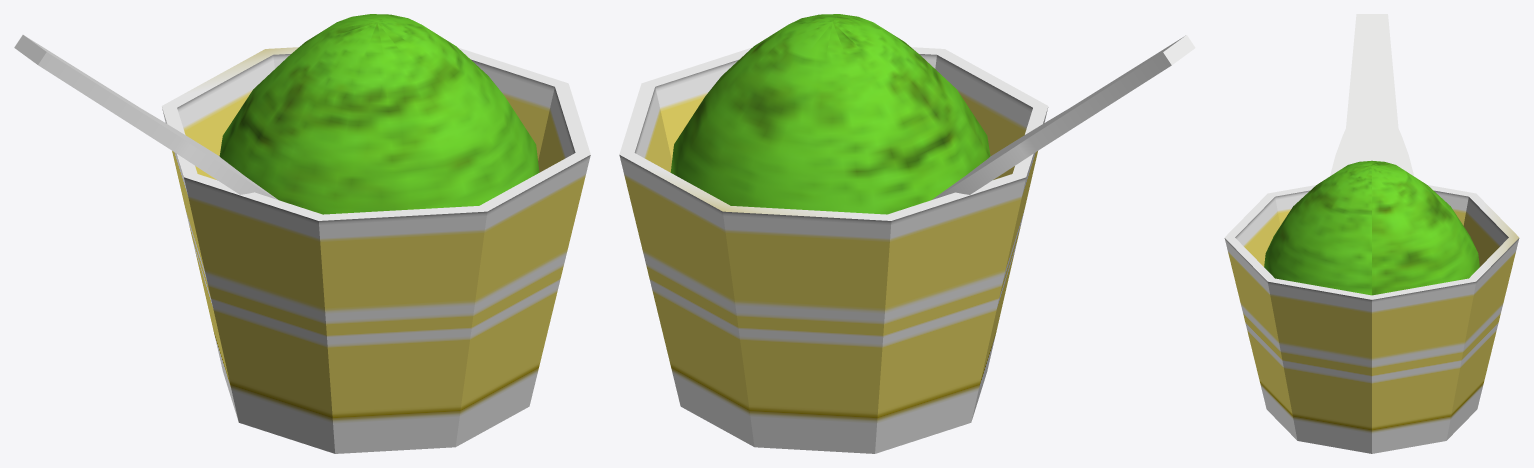
Rendered from IceCream_CupE.fbx.
3 views of the same model, side by side, from view 1: azimuth 30°, elevation 25°; view 2: azimuth 150°, elevation 25°; view 3: azimuth 270°, elevation 25° (orthographic). The views are drawn at different scales.
Visible parts, largest first — view 1: IceCupE, IceCream_CupE, IceCreamSpoonE; view 2: IceCupE, IceCream_CupE, IceCreamSpoonE; view 3: IceCupE, IceCream_CupE, IceCreamSpoonE.
Boxes of the visible parts, box(x1,y1,x2,y2) form: IceCupE: box(161, 47, 590, 453); IceCream_CupE: box(219, 14, 539, 214); IceCreamSpoonE: box(14, 35, 277, 199); IceCupE: box(619, 47, 1048, 453); IceCream_CupE: box(670, 14, 990, 214); IceCreamSpoonE: box(932, 35, 1195, 199); IceCupE: box(1224, 185, 1519, 453); IceCream_CupE: box(1264, 160, 1479, 295); IceCreamSpoonE: box(1330, 14, 1414, 176).
Size of the model in its own units: 163 by 123 by 115.
